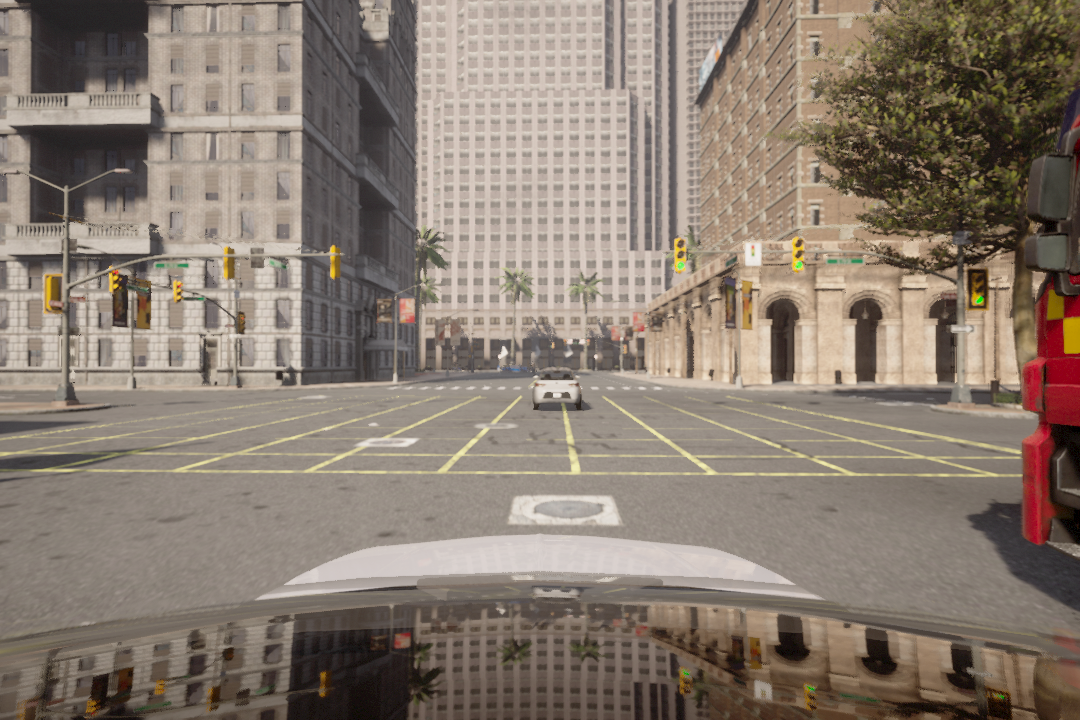TrafficLight: (967, 269, 986, 309), (672, 237, 689, 274), (793, 237, 804, 274), (108, 266, 120, 293), (171, 282, 184, 305)
walkside: (379, 381, 671, 394)
